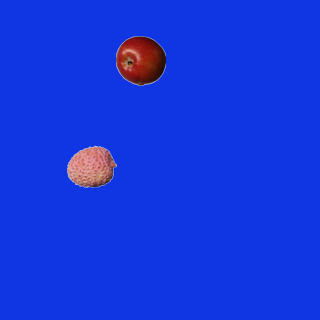Apple Braeburn: (115, 35, 165, 85)
Lychee: (66, 141, 116, 191)
